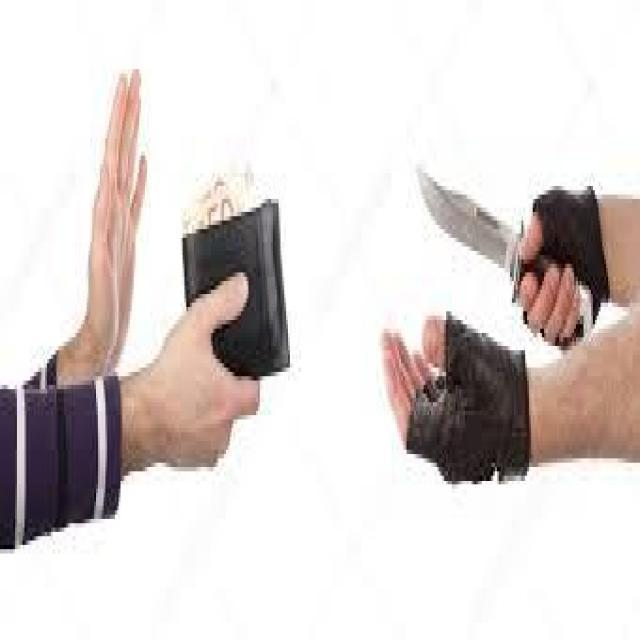faca: (408, 112, 604, 346)
